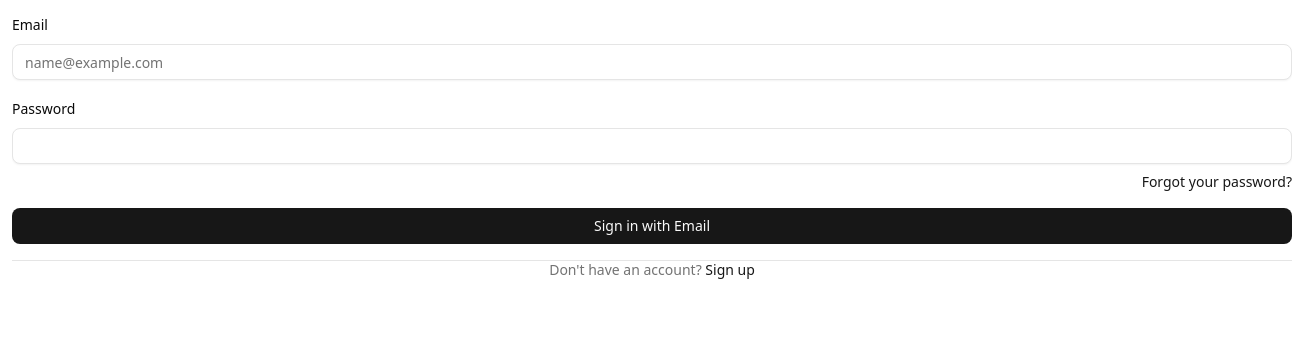
Test: LoginForm › handles submission error
Fill in valid data
Type "test@example.com" into the field with test id "login-email-input" at point(652, 62), box [12,44,1292,80]
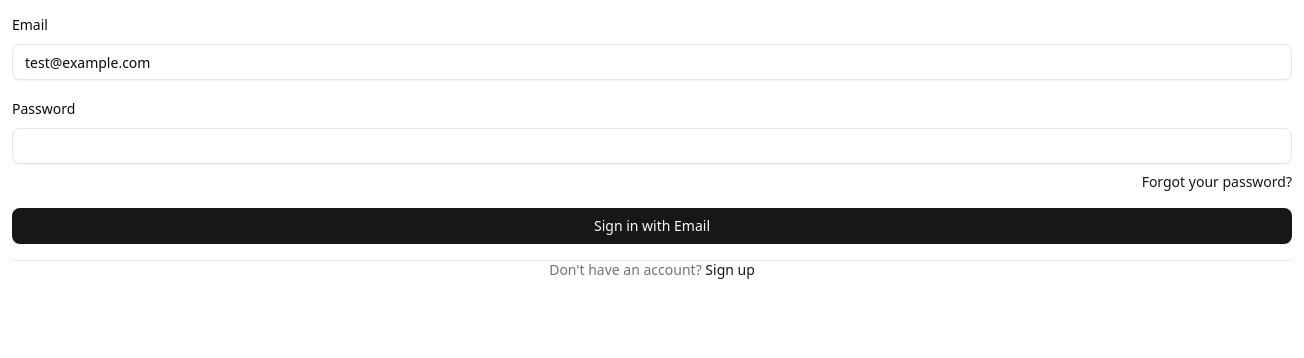
Type "password123" into the password field with test id "login-password-input" at point(652, 146), box [12,128,1292,164]
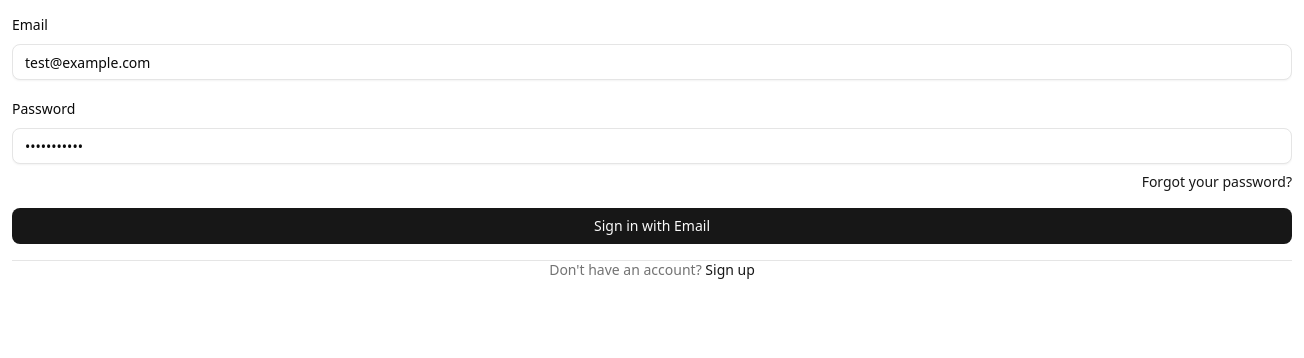
Submit form
Click the button with test id "login-submit-button" at point(652, 226), box [12,208,1292,244]
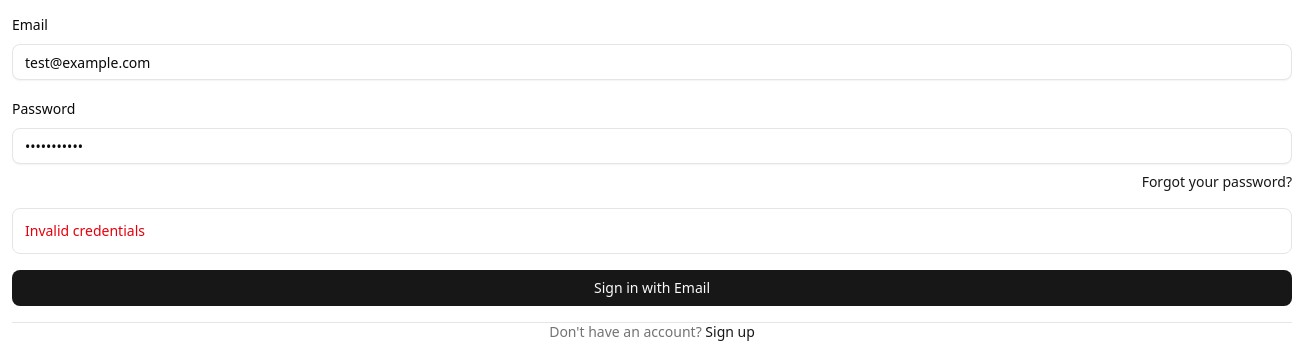
Now the text "Invalid credentials" is shown, box [12,208,1292,254]
Now the text with test id "login-error-message" reads "Invalid credentials", box [25,221,145,240]
